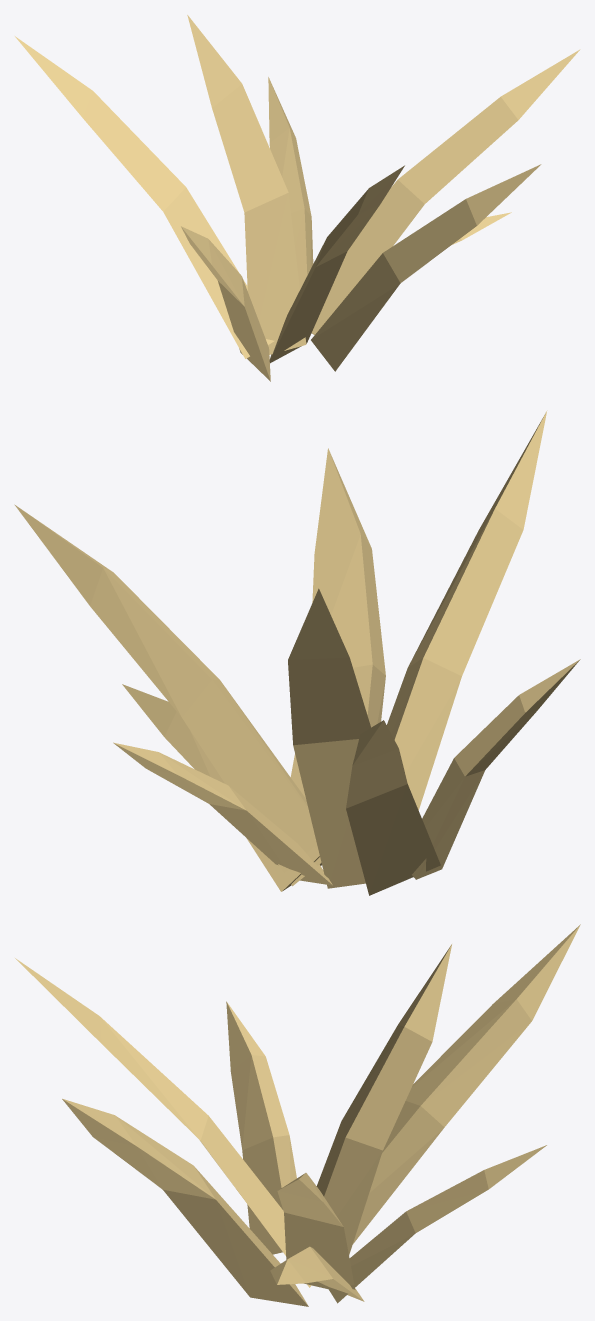
File: Grass_001.fbx
3 views of the same model, one above another, from view 1: azimuth 30°, elevation 25°; view 2: azimuth 150°, elevation 25°; view 3: azimuth 270°, elevation 25° (orthographic). The views are drawn at different scales.
Parts seen in each view (by area): view 1: pCube221; view 2: pCube221; view 3: pCube221.
Boxes of the visible parts, x1,y1,x2,y2 form: pCube221: (15, 15, 580, 381); pCube221: (14, 410, 580, 895); pCube221: (15, 924, 580, 1306).
Size of the model in its own units: 1.09 by 0.7238 by 1.14.
